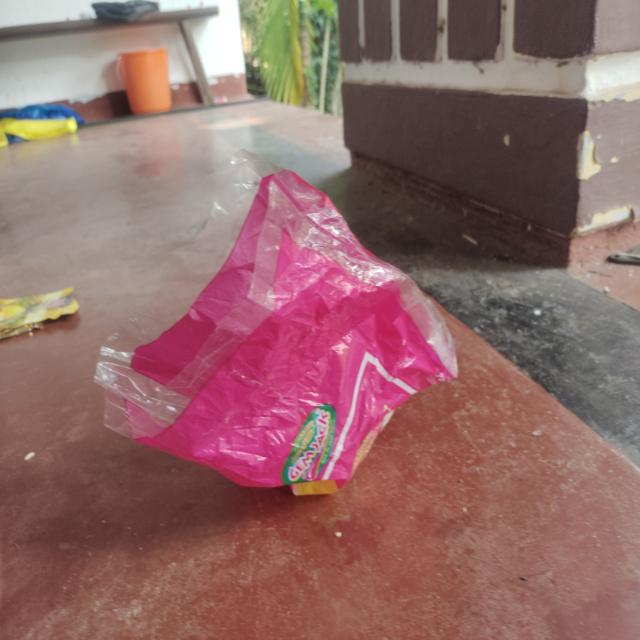plastic: (94, 165, 463, 494)
